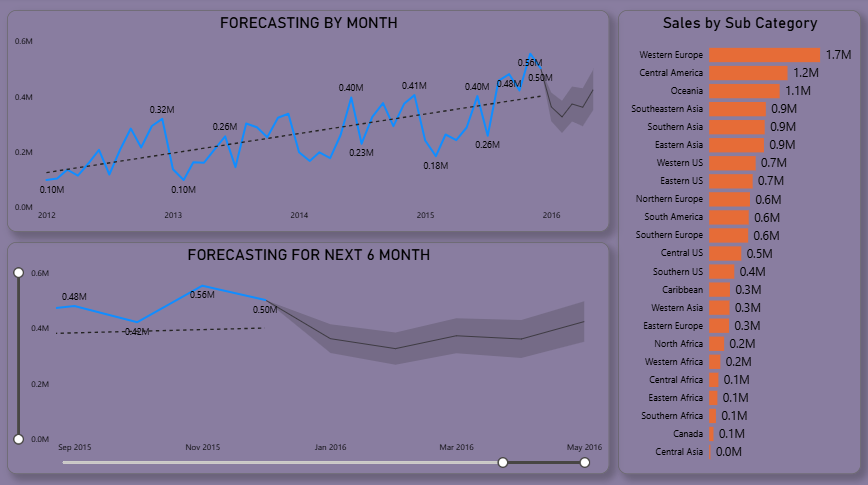

The dashboard page shown, as its layout file describes it:
{"tool":"powerbi","page":{"name":"FORECASTING","canvas":[1280,720],"ordinal":1},"visuals":[{"type":"lineChart","title":"FORECASTING BY MONTH","fields":{"Y":["Sum(Orders.Sales)"],"Category":["Orders.Order Date.Variation.Date Hierarchy.Year","Orders.Order Date.Variation.Date Hierarchy.Month"]},"box":[13.4,18.5,885.2,325.9],"z":0},{"type":"barChart","title":"Sales by Sub Category","fields":{"Y":["Sum(Orders.Sales)"],"Category":["Orders.Region"]},"box":[911,19.1,357.1,681.8],"z":1},{"type":"lineChart","title":"FORECASTING FOR  NEXT 6 MONTH","fields":{"Y":["Sum(Orders.Sales)"],"Category":["Orders.Order Date.Variation.Date Hierarchy.Year","Orders.Order Date.Variation.Date Hierarchy.Month"]},"box":[13.4,359.5,885.2,341],"z":2}]}

Visuals, with their boxes in screenshot pixels (x1, y1, x2, y2), scaled from the page's 1280x720 canvas onto the 868x485 screenshot:
"FORECASTING BY MONTH" lineChart: 9:12:609:232
"Sales by Sub Category" barChart: 618:13:860:472
"FORECASTING FOR  NEXT 6 MONTH" lineChart: 9:242:609:472
